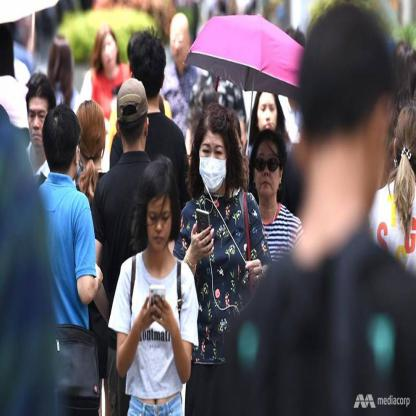Not_Wearing_Mask: (253, 149, 280, 198), (146, 204, 171, 251), (26, 104, 46, 148), (256, 98, 278, 131), (100, 38, 116, 72)
Wearing_Mask: (197, 139, 227, 194)
